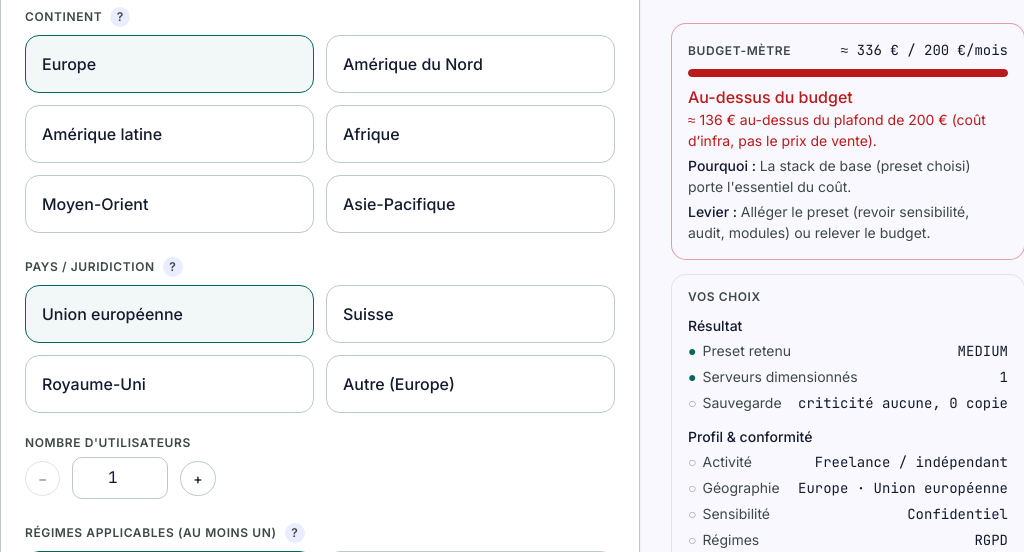
Scenario: Wizard (4 blocs) › saisie « Autre » (S-064) › affiche la saisie inline dès que le pays est réglé sur « Autre (Europe) » (S-076)
(page scrolled)
Click the button "Autre (Europe)" at (399, 384), box left=326, top=355, right=615, bottom=413
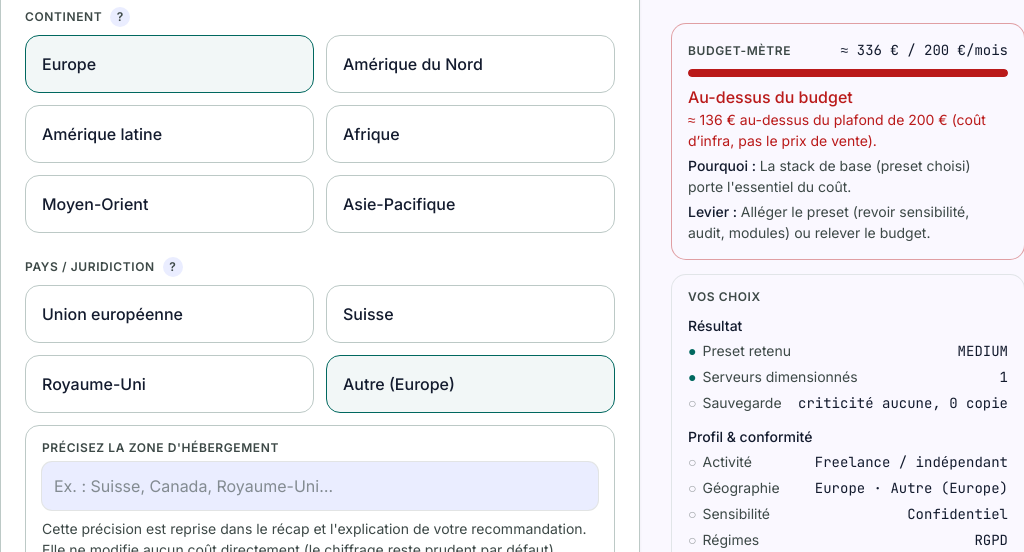
Now the field labelled "Précisez la zone d'hébergement" is shown, box left=42, top=462, right=598, bottom=510
